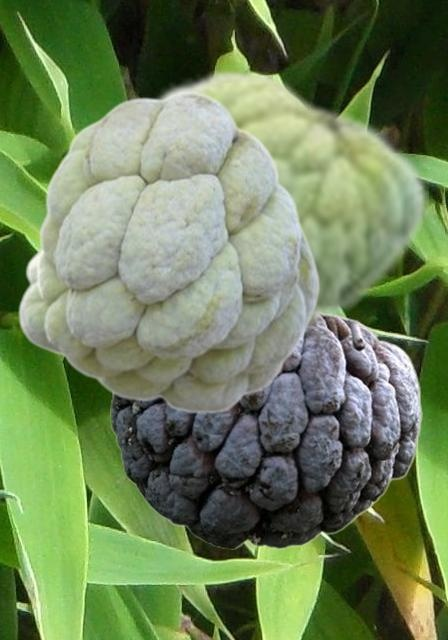atis: (17, 90, 319, 413), (151, 65, 427, 340), (110, 314, 421, 548)
